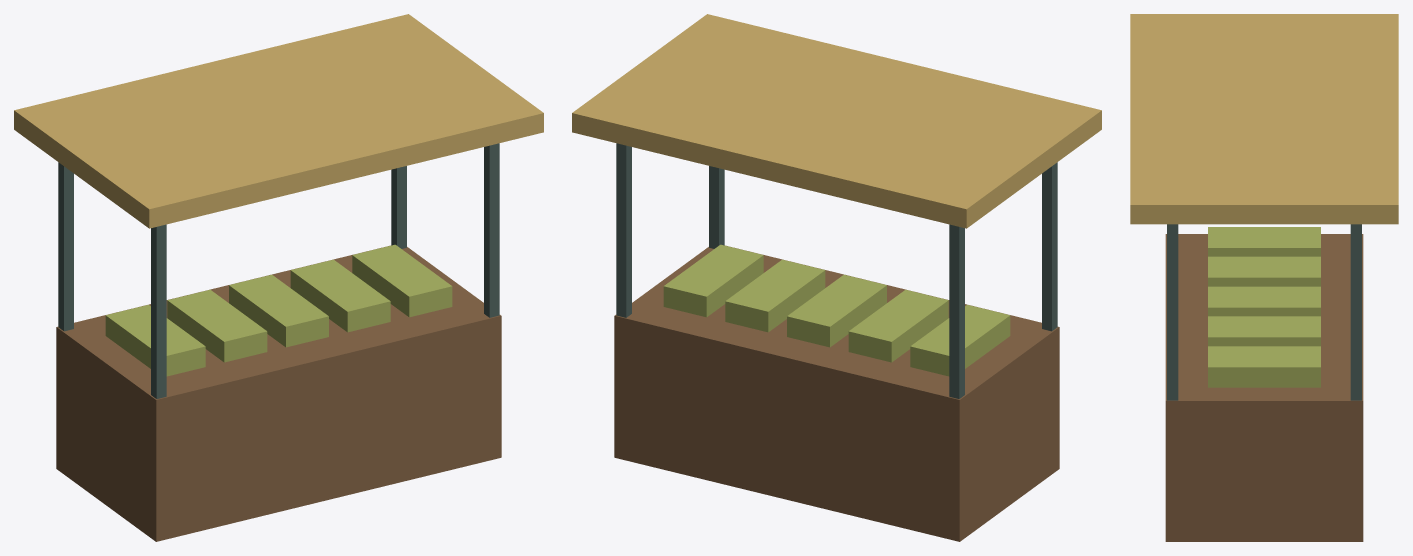
File: stall_gold.gltf
The picture shows the model from 3 angles, left to right: view 1: azimuth 30°, elevation 25°; view 2: azimuth 150°, elevation 25°; view 3: azimuth 270°, elevation 25°; orthographic projection.
Bounding box in the file's own units: 3.2 × 2.72 × 1.9.
